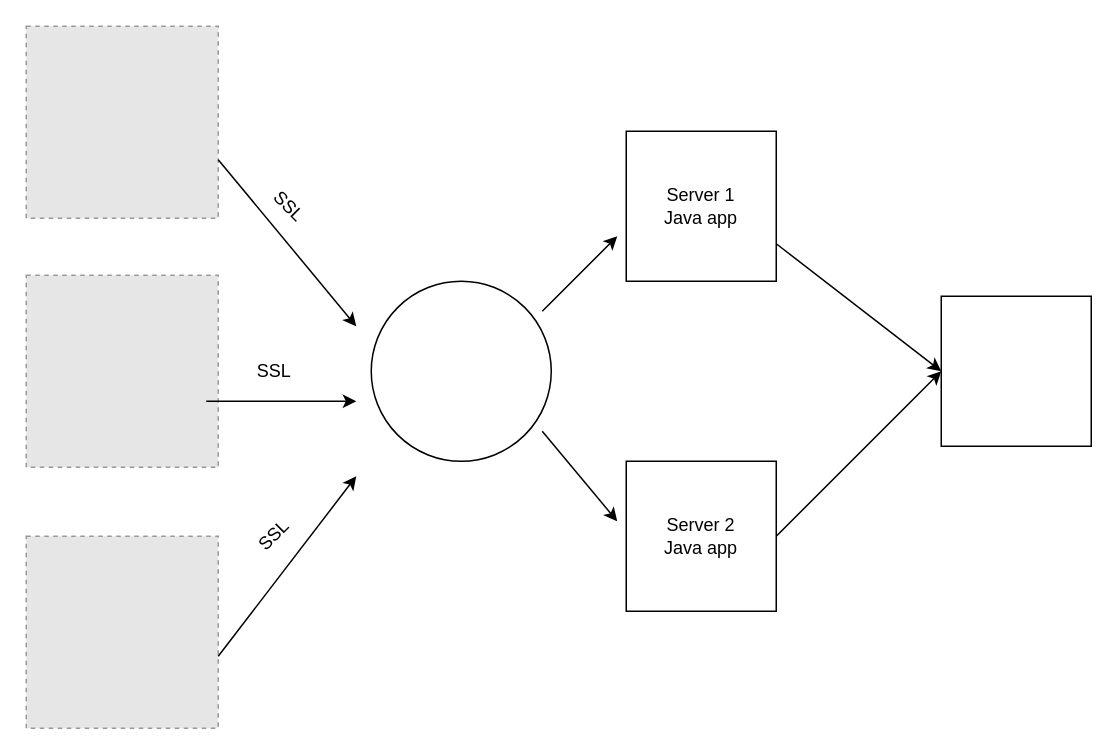
Some shapes in this 1118 by 755 pixel diagram are drawn without their labels. Grey dashed boxes stand in for pictures. The centre of each missing label's shape, as x and y in pixels:
"NGINX Load Balancer" goes at pixel 460 370.
"Server 3 Database MySQL" goes at pixel 1015 370.
